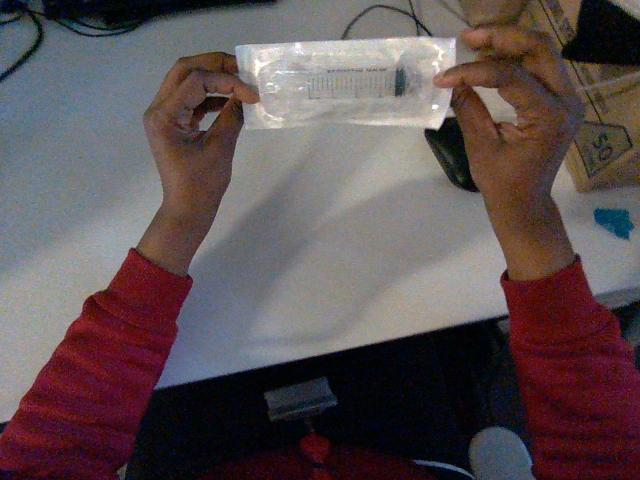syringe: (236, 37, 455, 128)
